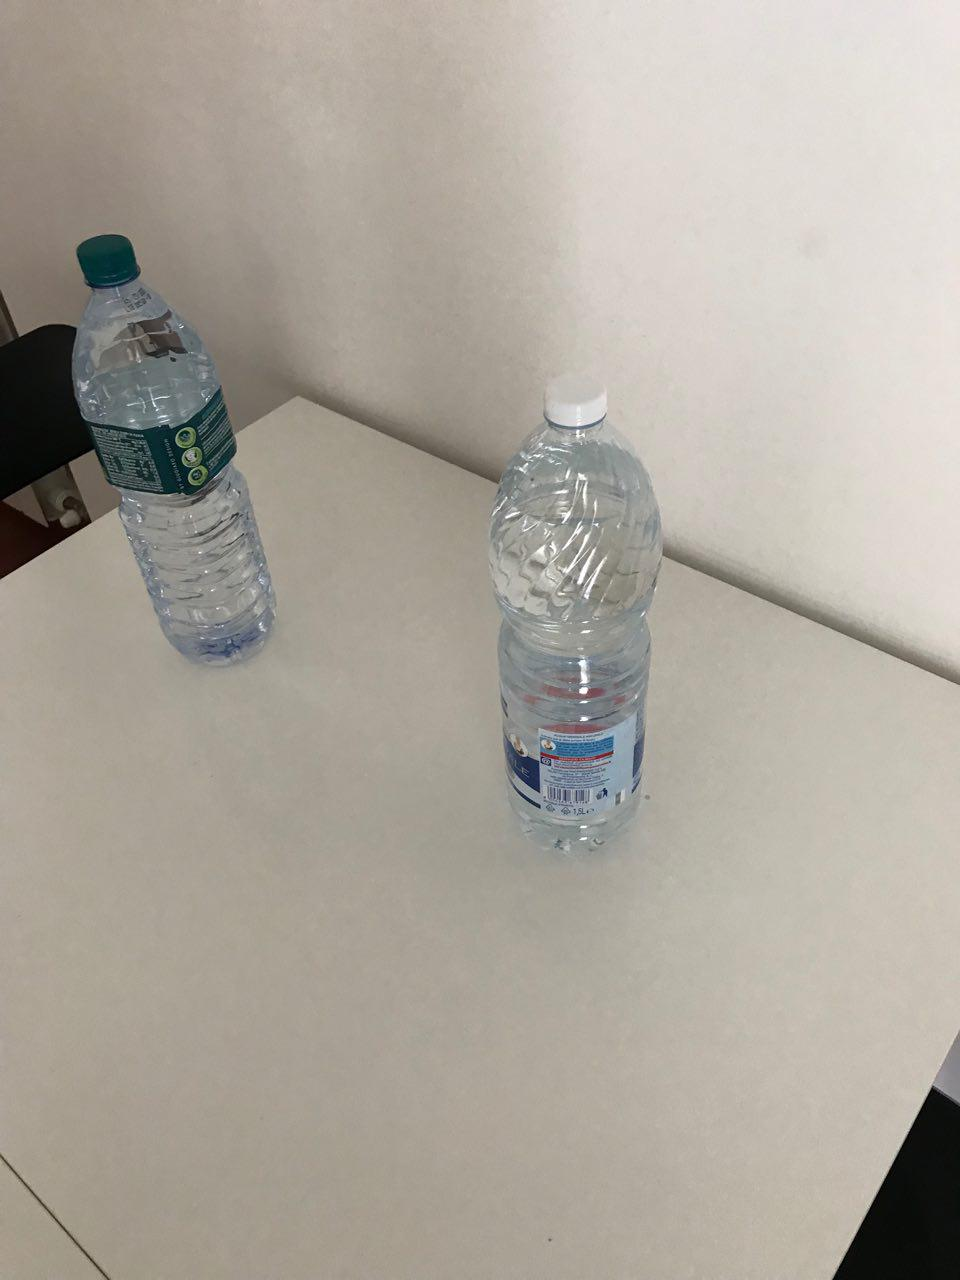san_bernardo: (70, 232, 278, 670)
